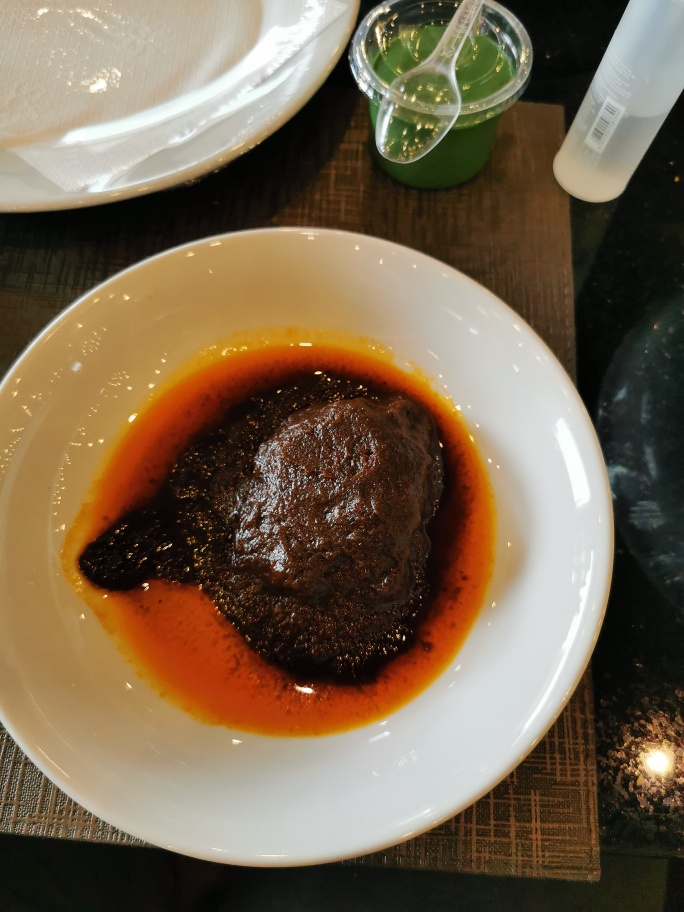rendang: (130, 373, 463, 685)
